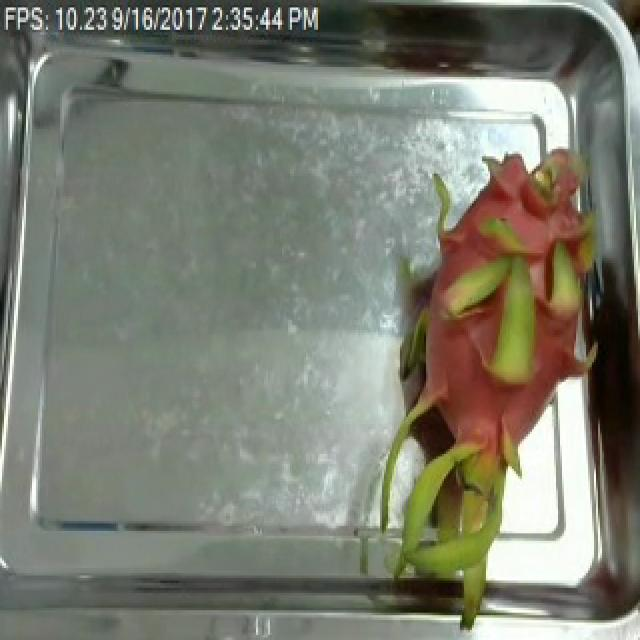fruit: (338, 163, 634, 618)
